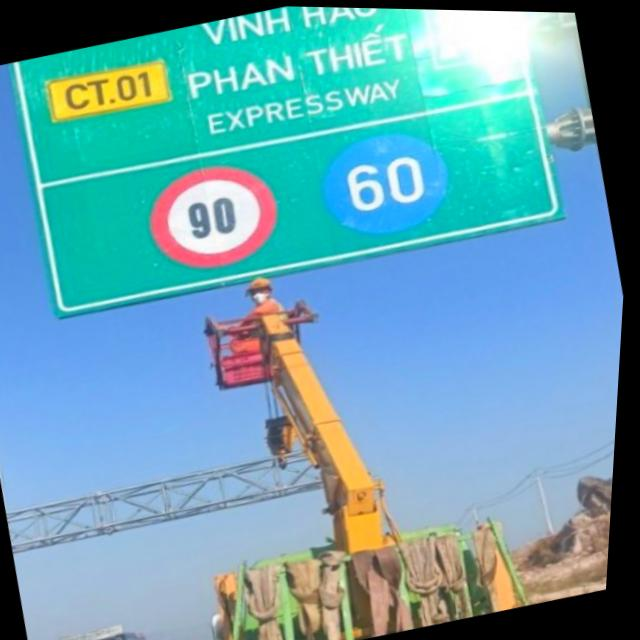Speed Limit -90-: (134, 147, 295, 284)
